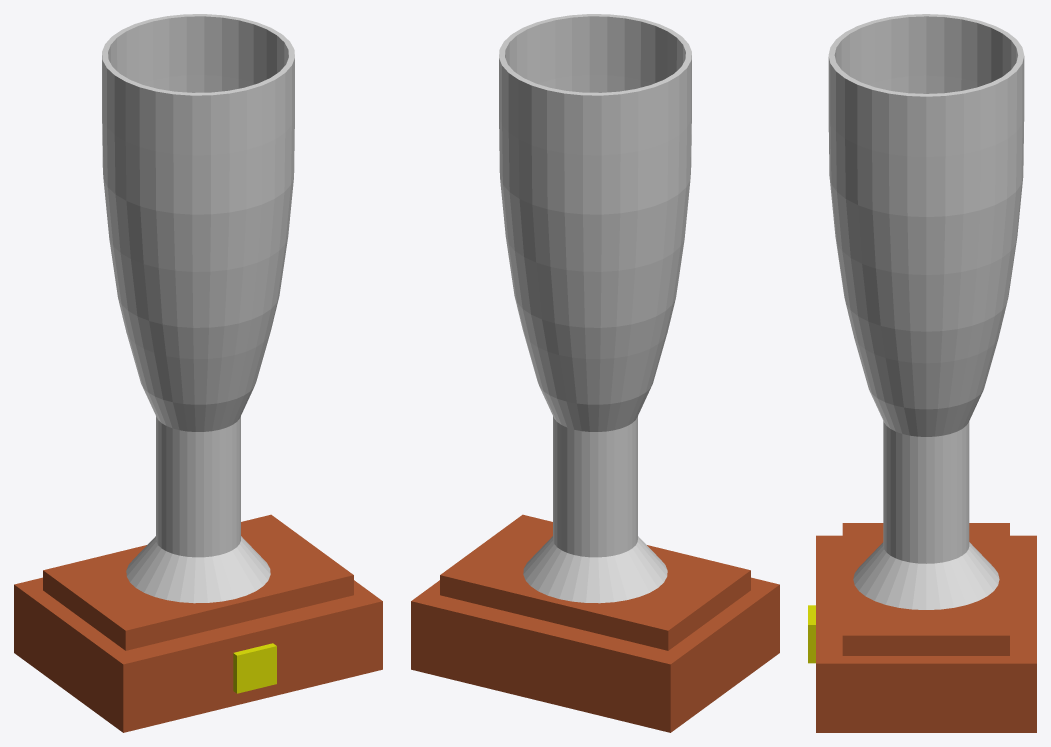
The model's file is Trophy_2.fbx.
The picture shows the model from 3 angles, left to right: view 1: azimuth 30°, elevation 25°; view 2: azimuth 150°, elevation 25°; view 3: azimuth 270°, elevation 25°; orthographic projection.
Visible parts, largest first — view 1: Cube; view 2: Cube; view 3: Cube.
Boxes of the visible parts, x1,y1,x2,y2 form: Cube: (14,14,382,732); Cube: (411,14,779,732); Cube: (808,14,1036,732).
Size of the model in its own units: 228 by 510 by 172.
